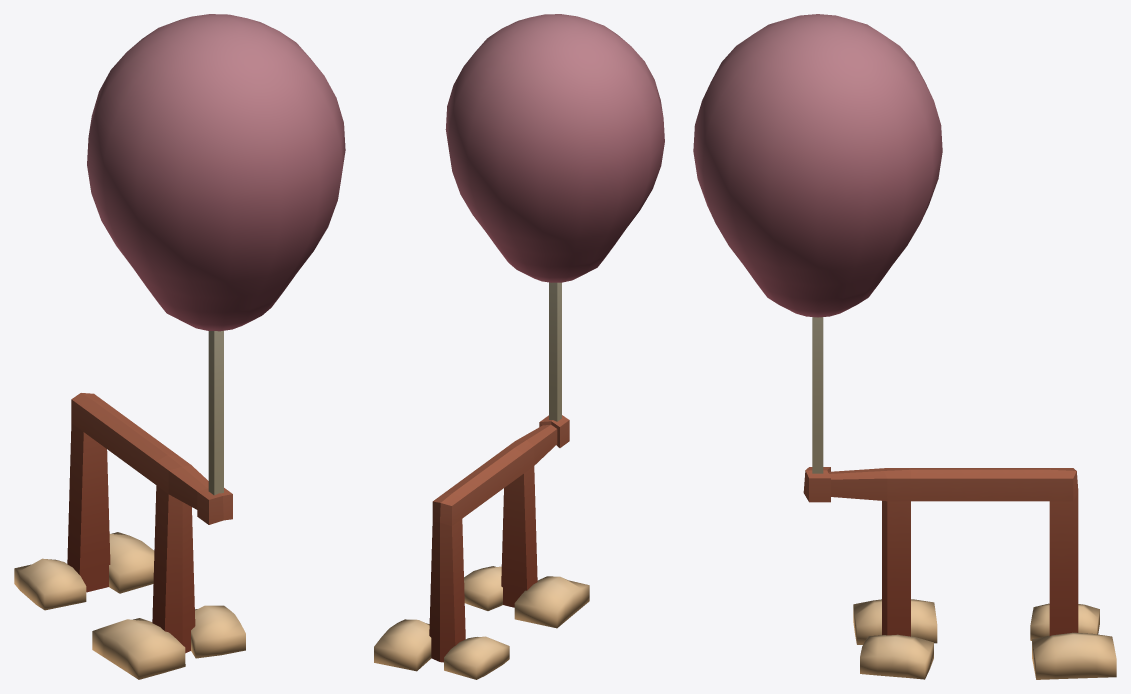
Rendered from targetStand.fbx.
The picture shows the model from 3 angles, left to right: view 1: azimuth 30°, elevation 25°; view 2: azimuth 150°, elevation 25°; view 3: azimuth 270°, elevation 25°; orthographic projection. The views are drawn at different scales.
Visible parts, largest first — view 1: balloon, targetStand; view 2: balloon, targetStand; view 3: balloon, targetStand.
Boxes of the visible parts, left/top/right/bottom form: balloon: left=87, top=14, right=345, bottom=331; targetStand: left=14, top=330, right=245, bottom=679; balloon: left=445, top=14, right=664, bottom=282; targetStand: left=374, top=282, right=589, bottom=679; balloon: left=693, top=14, right=942, bottom=317; targetStand: left=803, top=317, right=1116, bottom=679.
Bounding box in the file's own units: 1.37 × 3.79 × 2.32.
